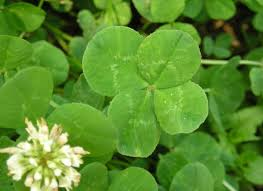4-clover: (82, 25, 208, 157)
